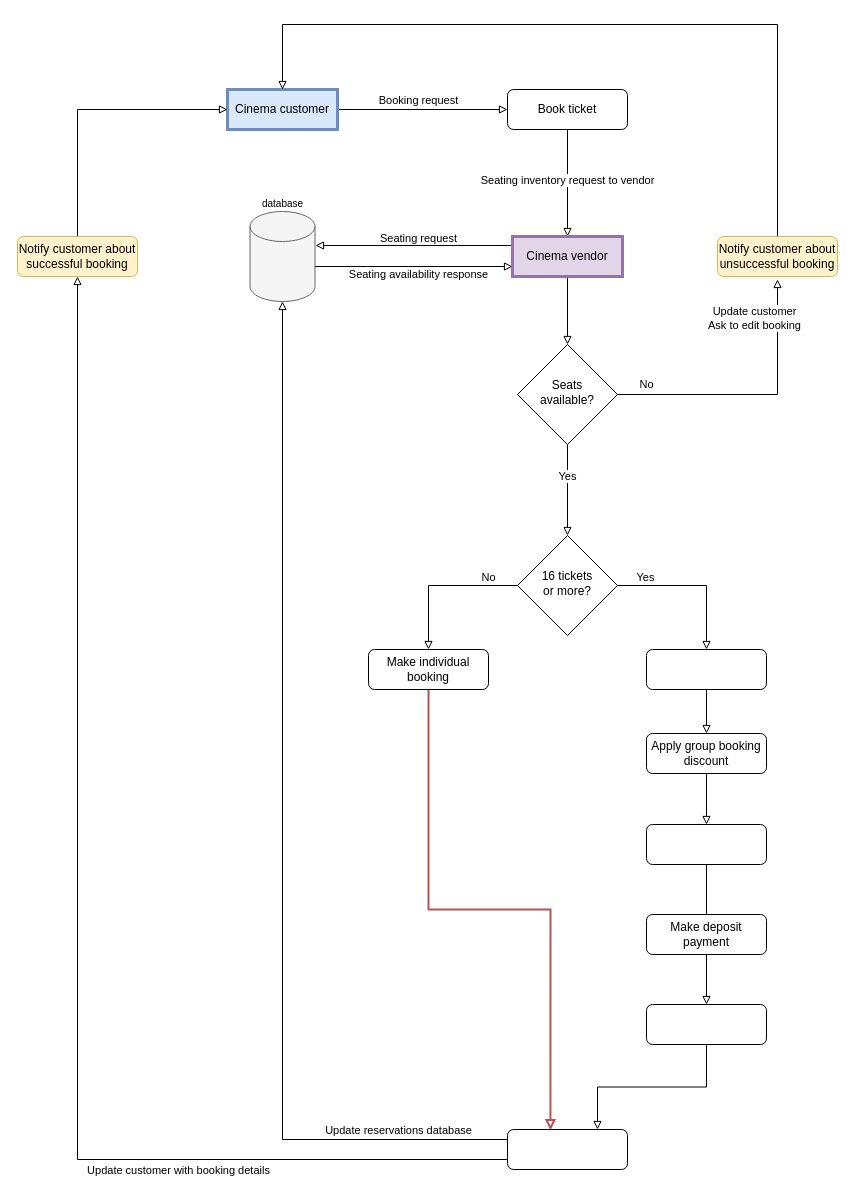
Some shapes in this 855 by 1194 pixel diagram are drawn without their labels. Here are the shapes that lost their labels. From the top down, the centre of each, then its label:
At (282,256): "Cinema seat inventory".
At (706,669): "Make group booking".
At (706,844): "Request deposit".
At (706,1024): "Confirm payment".
At (567,1149): "Process booking reservation".
